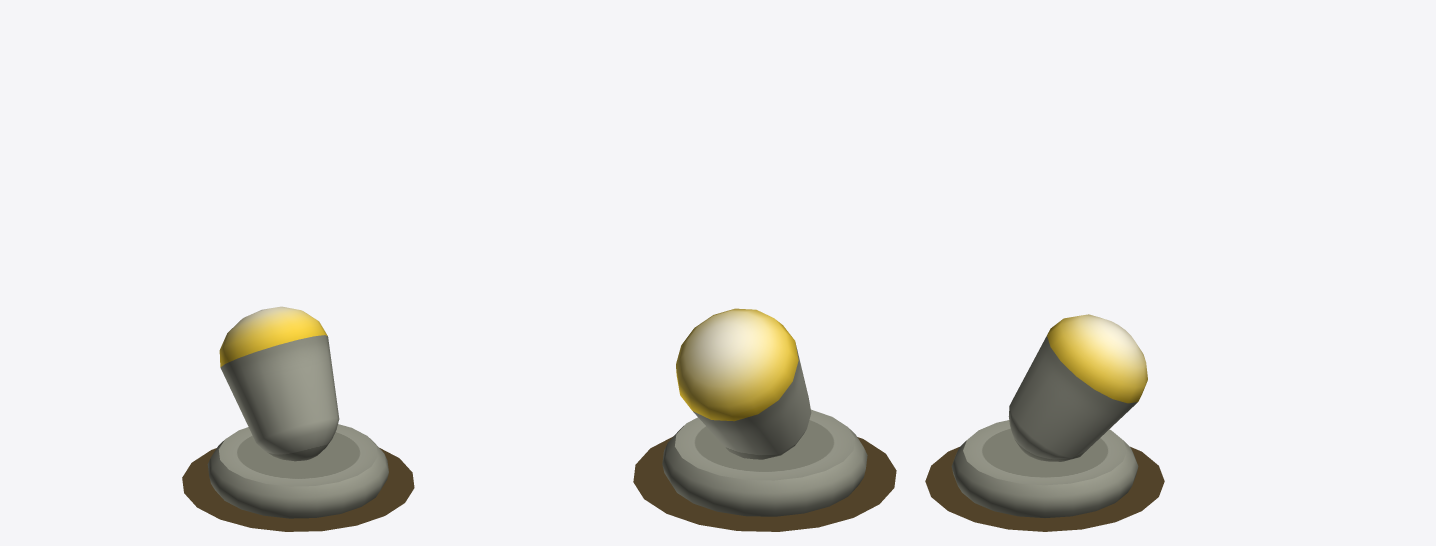
File: Mu_SpotLight.fbx
The picture shows the model from 3 angles, left to right: view 1: azimuth 30°, elevation 25°; view 2: azimuth 150°, elevation 25°; view 3: azimuth 270°, elevation 25°; orthographic projection. The views are drawn at different scales.
Visible parts, largest first — view 1: Mu_SpotLight, Mu_SpotLight_shadow; view 2: Mu_SpotLight, Mu_SpotLight_shadow; view 3: Mu_SpotLight, Mu_SpotLight_shadow.
Boxes of the visible parts, x1,y1,x2,y2 form: Mu_SpotLight: [207, 306, 388, 518]; Mu_SpotLight_shadow: [182, 448, 414, 531]; Mu_SpotLight: [662, 308, 867, 516]; Mu_SpotLight_shadow: [633, 436, 896, 531]; Mu_SpotLight: [951, 314, 1147, 517]; Mu_SpotLight_shadow: [925, 446, 1164, 531].
Size of the model in its own units: 145 by 188 by 192.
Materials: 2 (1 with a texture image).
